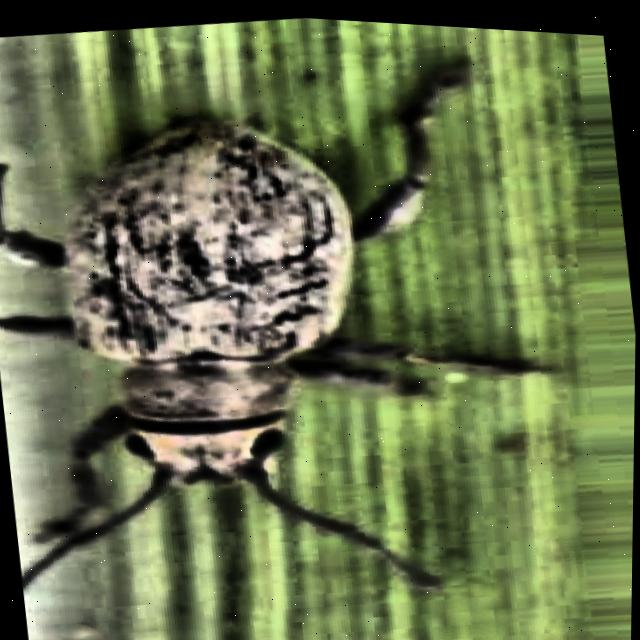Stink bug: (0, 0, 596, 640)
